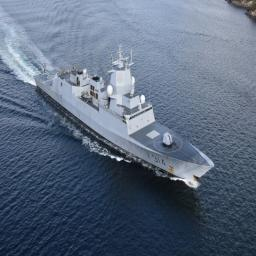Fragata: (33, 41, 216, 185)
